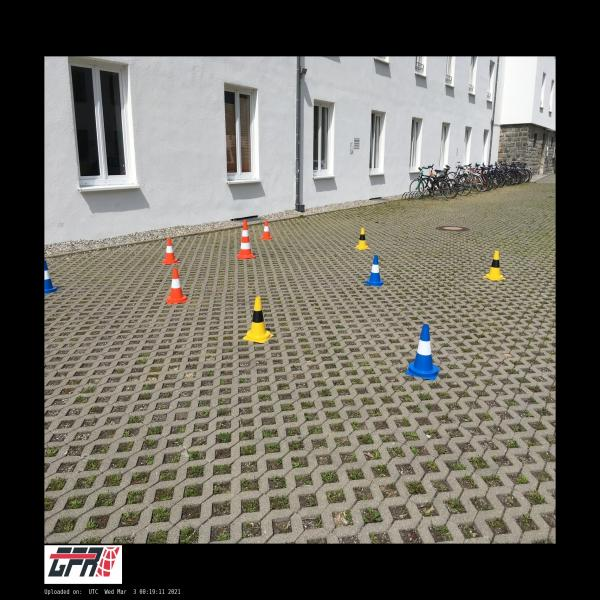blue_cone: (406, 325, 440, 380), (364, 256, 385, 286), (45, 260, 60, 295)
large_orange_cone: (237, 220, 256, 260)
orange_cone: (167, 268, 188, 303), (162, 238, 180, 264), (261, 221, 273, 240)
yellow_cone: (243, 297, 273, 342), (483, 250, 506, 280), (355, 228, 370, 250)
